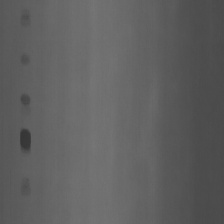oil_spot: (17, 122, 35, 159), (17, 4, 33, 28), (19, 176, 33, 198), (19, 48, 33, 68), (20, 89, 33, 109)
